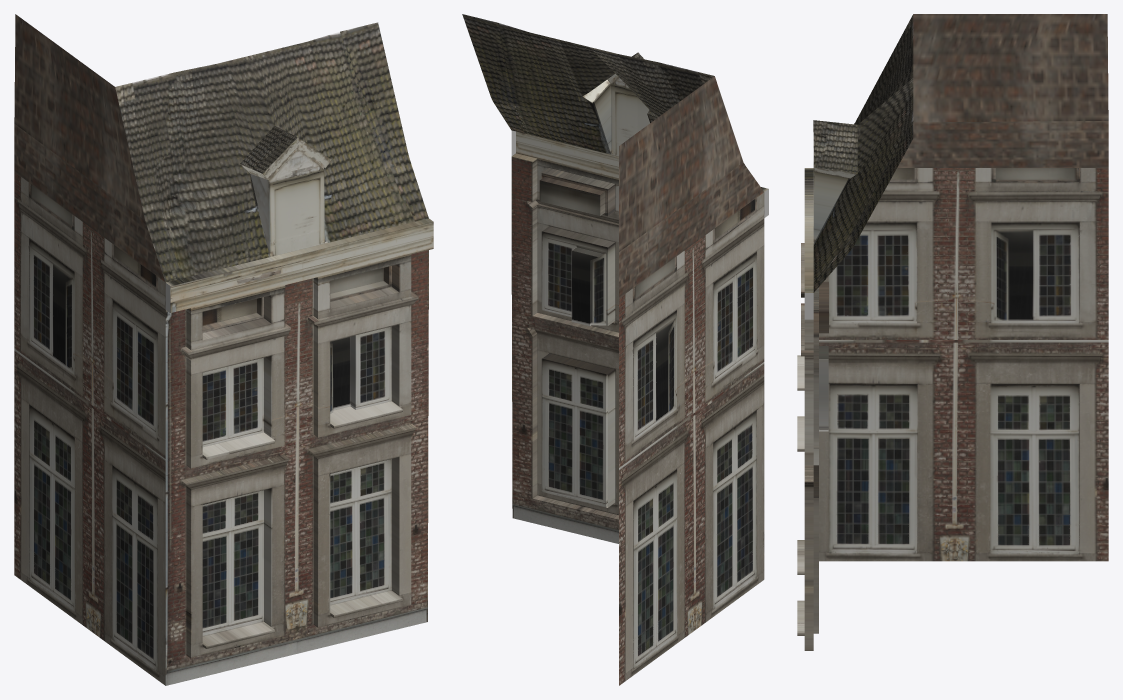
Rendered from TestModel.glb.
3 views of the same model, side by side, from view 1: azimuth 30°, elevation 25°; view 2: azimuth 150°, elevation 25°; view 3: azimuth 270°, elevation 25° (orthographic). The views are drawn at different scales.
Parts seen in each view (by area): view 1: TexturesCom_Buildings18thCentury0031_2_M.002; view 2: TexturesCom_Buildings18thCentury0031_2_M.002; view 3: TexturesCom_Buildings18thCentury0031_2_M.002.
Boxes of the visible parts, left/top/right/bottom form: TexturesCom_Buildings18thCentury0031_2_M.002: left=14, top=14, right=433, bottom=685; TexturesCom_Buildings18thCentury0031_2_M.002: left=462, top=14, right=768, bottom=685; TexturesCom_Buildings18thCentury0031_2_M.002: left=797, top=14, right=1108, bottom=650.
Size of the model in its own units: 0.4221 by 0.8599 by 0.4426.
1 material, 1 textured.
